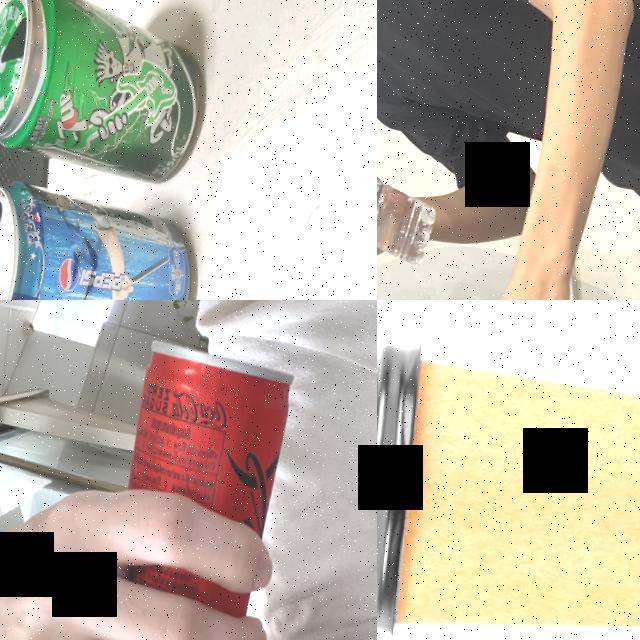bottle: (377, 141, 443, 271)
can: (75, 327, 309, 640), (0, 0, 219, 190), (0, 173, 207, 300)
cup: (377, 335, 640, 640)
